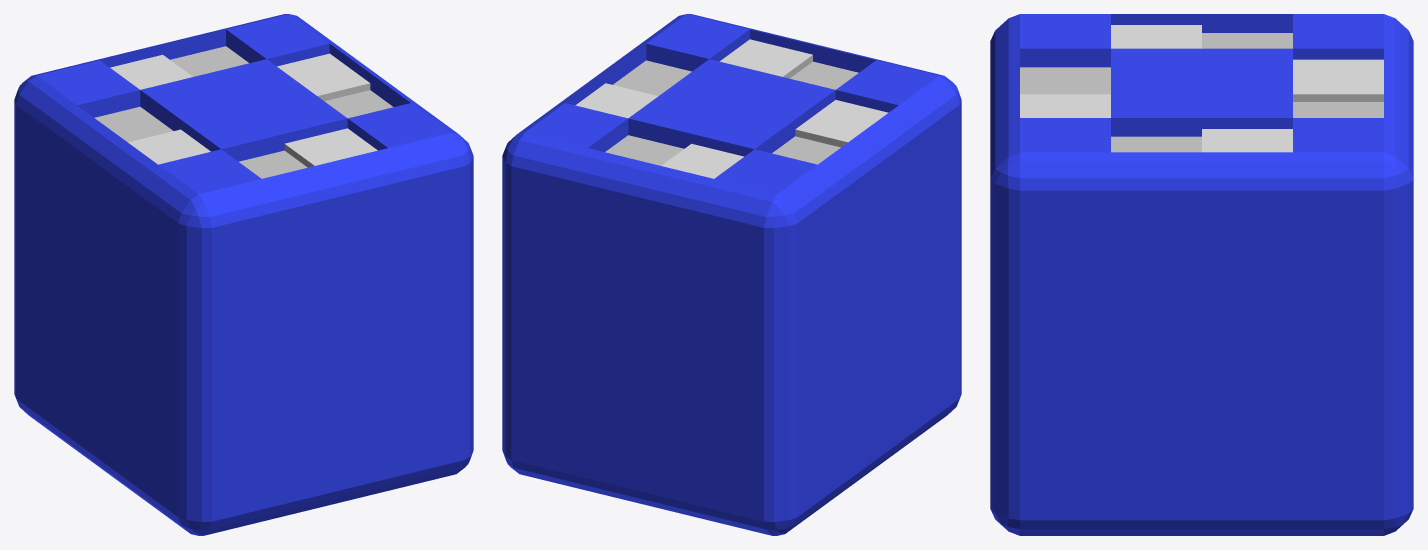
File: blockStage.gltf
The picture shows the model from 3 angles, left to right: view 1: azimuth 30°, elevation 25°; view 2: azimuth 150°, elevation 25°; view 3: azimuth 270°, elevation 25°; orthographic projection. The views are drawn at different scales.
Visible parts, largest first — view 1: Cube; view 2: Cube; view 3: Cube.
Boxes of the visible parts, x1,y1,x2,y2 form: Cube: [14, 14, 473, 535]; Cube: [502, 14, 961, 535]; Cube: [990, 14, 1413, 535].
Size of the model in its own units: 1.8 by 2 by 2.
